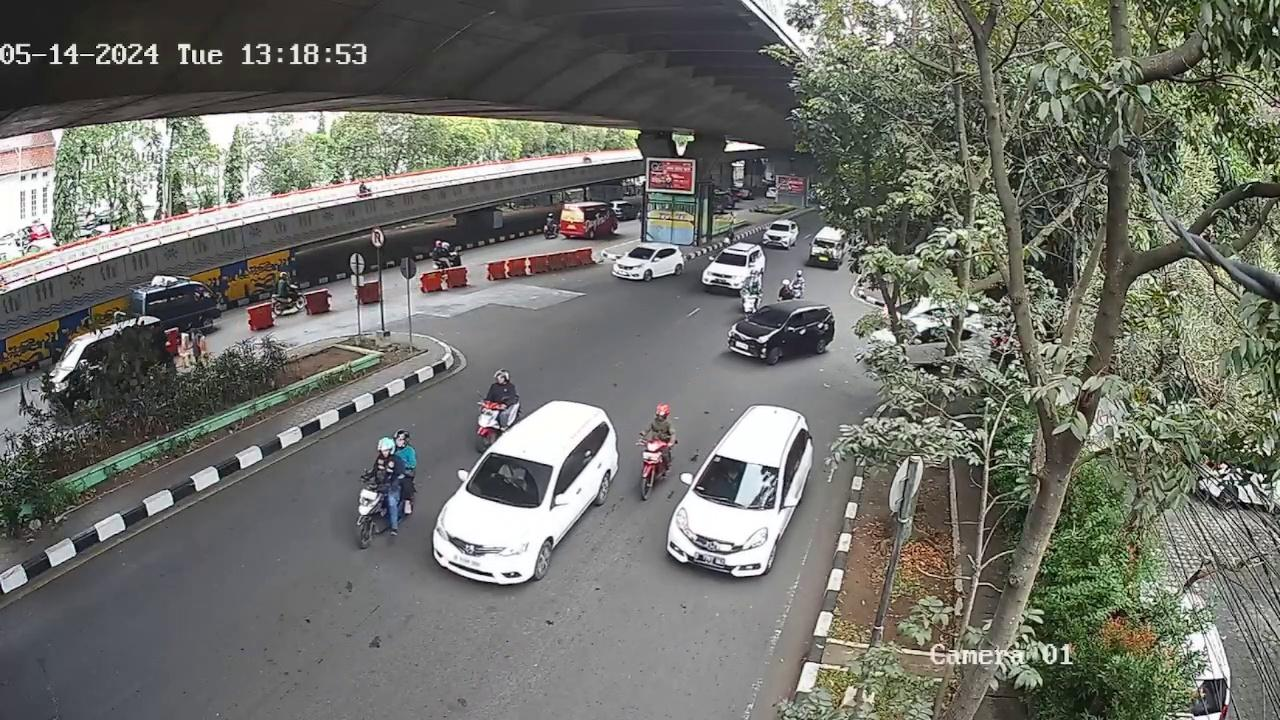pakai: (494, 462, 528, 493)
windshield: (690, 456, 781, 509), (469, 453, 549, 506)
